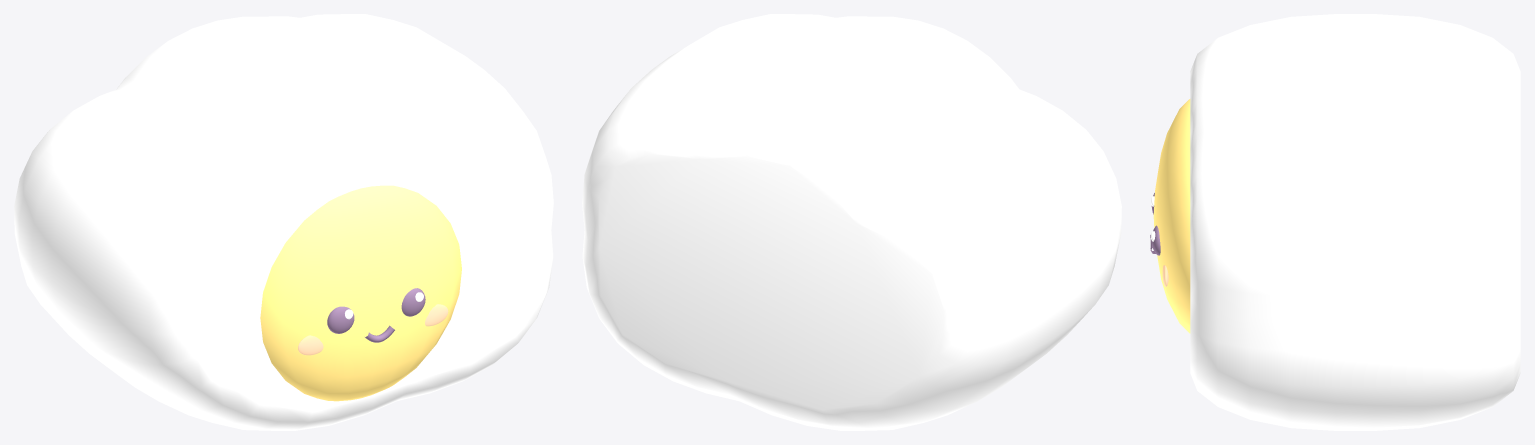
The model's file is squishy_egg.glb.
The picture shows the model from 3 angles, left to right: view 1: azimuth 30°, elevation 25°; view 2: azimuth 150°, elevation 25°; view 3: azimuth 270°, elevation 25°; orthographic projection.
Visible parts, largest first — view 1: egg; view 2: egg; view 3: egg.
Boxes of the visible parts, box(x1,y1,x2,y2) form: egg: box(14, 14, 553, 430); egg: box(582, 14, 1121, 430); egg: box(1150, 14, 1520, 430).
Size of the model in its own units: 1.36 by 1 by 0.9629.
